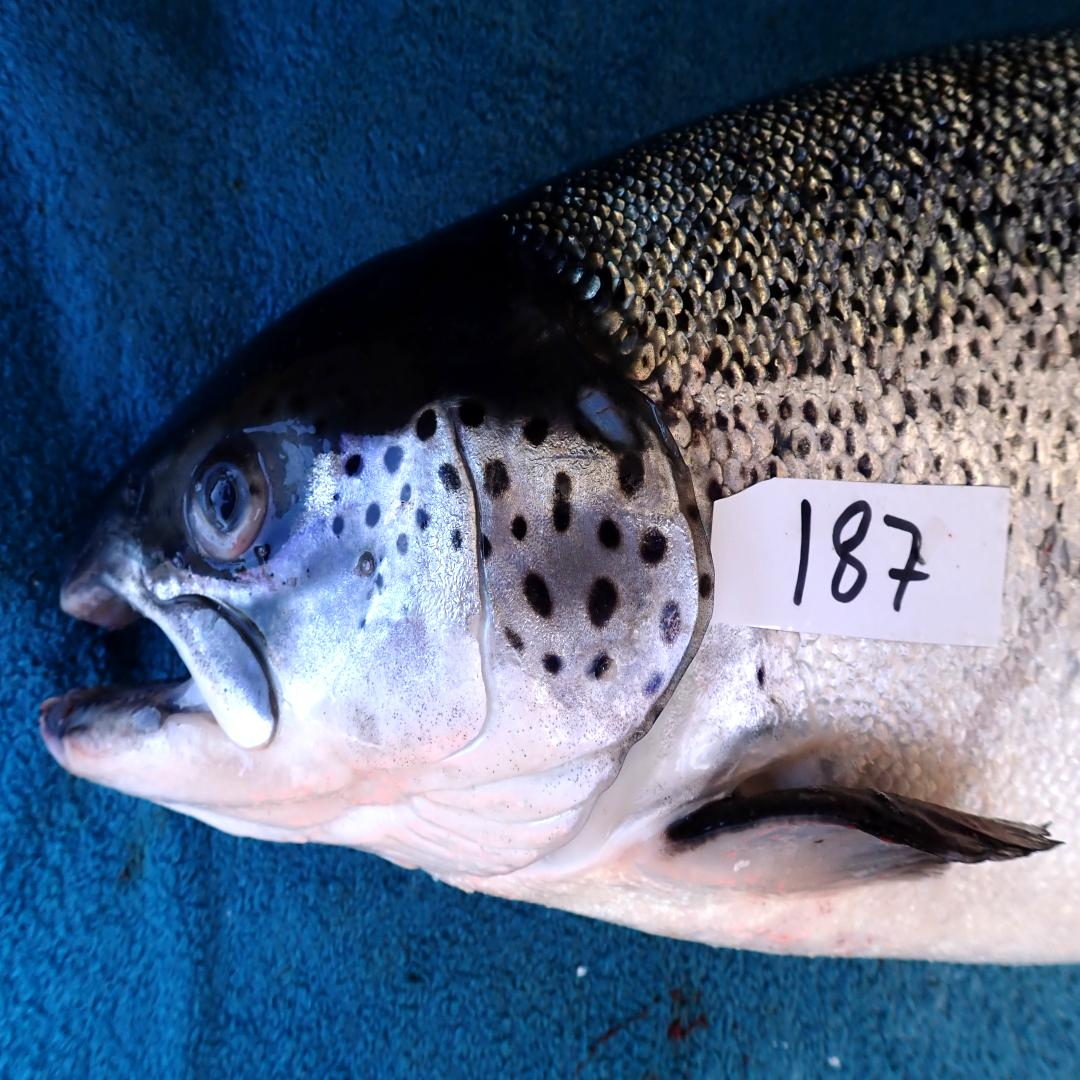roi: (268, 410, 709, 880)
